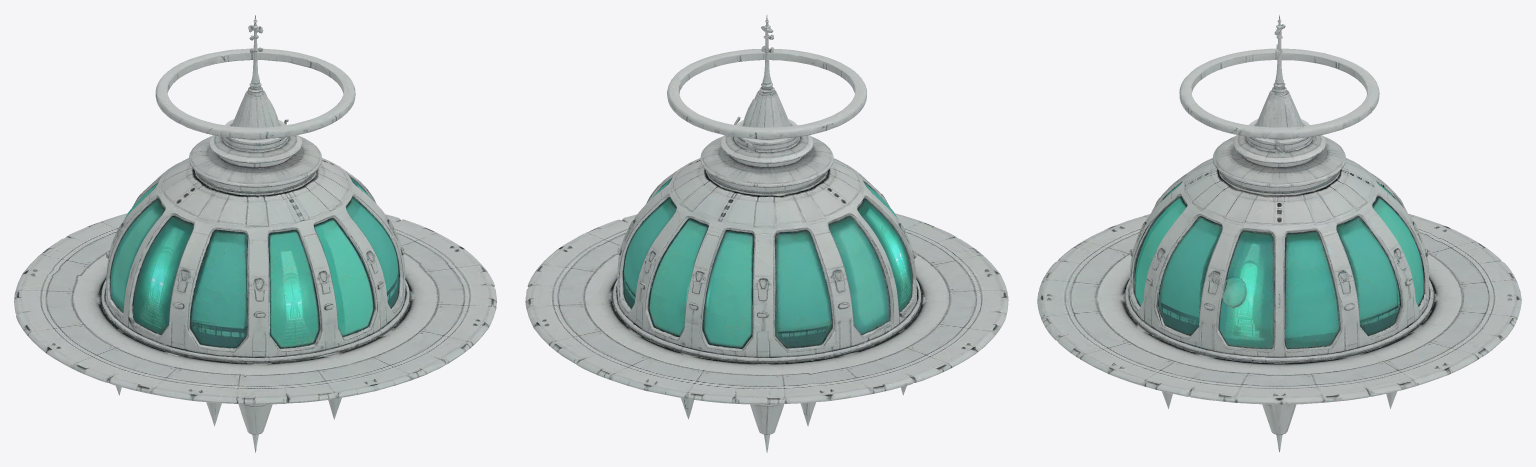
File: bld-sky-dome-v2.glb
3 renders of one model, left to right at view 1: azimuth 30°, elevation 25°; view 2: azimuth 150°, elevation 25°; view 3: azimuth 270°, elevation 25°, orthographic.
Visible parts, largest first — view 1: Mesh_0; view 2: Mesh_0; view 3: Mesh_0.
Boxes of the visible parts, x1=… form: Mesh_0: x1=14, y1=15, x2=496, y2=452; Mesh_0: x1=525, y1=15, x2=1008, y2=452; Mesh_0: x1=1037, y1=15, x2=1521, y2=452.
Bounding box in the file's own units: 1.9 × 1.9 × 1.9.
1 material, 1 textured.
